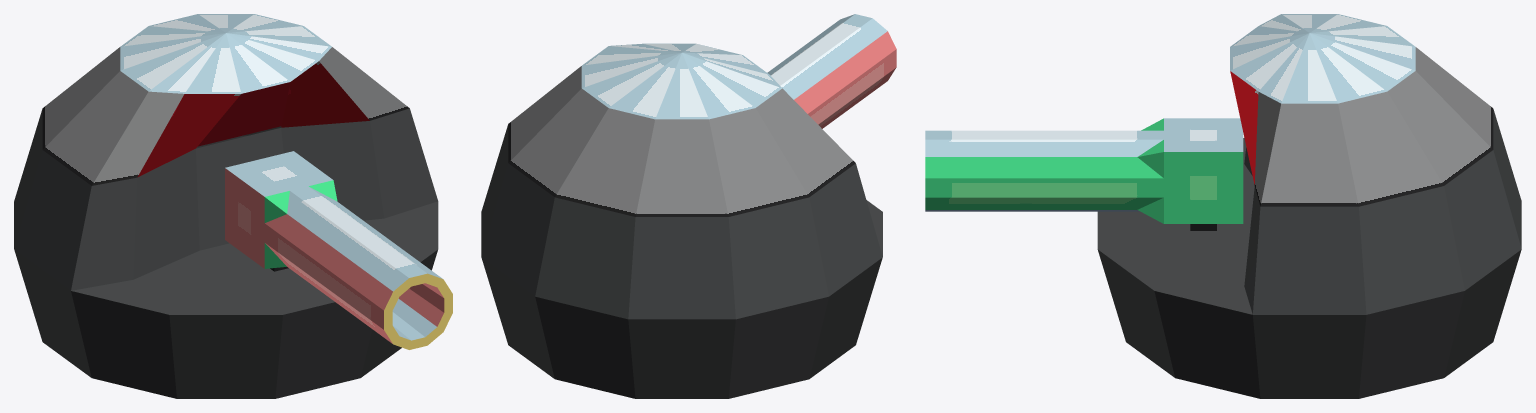
File: tank.gltf
The picture shows the model from 3 angles, left to right: view 1: azimuth 30°, elevation 25°; view 2: azimuth 150°, elevation 25°; view 3: azimuth 270°, elevation 25°; orthographic projection. The views are drawn at different scales.
Parts seen in each view (by area): view 1: body, turret; view 2: body, turret; view 3: body, turret.
Boxes of the visible parts, box(x1,y1,x2,y2) form: body: box(14, 14, 438, 398); turret: box(225, 151, 452, 349); body: box(481, 43, 882, 398); turret: box(767, 14, 896, 128); body: box(1097, 14, 1521, 398); turret: box(925, 118, 1243, 223).
Bounding box in the file's own units: 2 × 1.5 × 2.81.
Materials: 2 (2 with a texture image).
